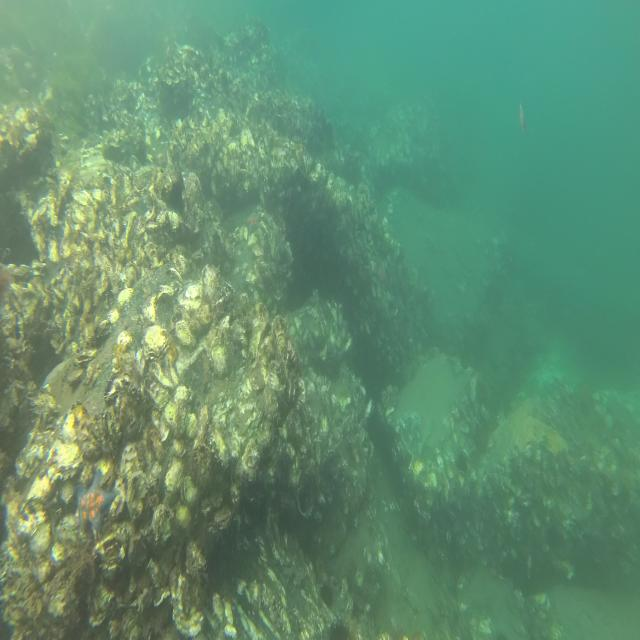starfish: (70, 471, 116, 541), (242, 204, 262, 239)
